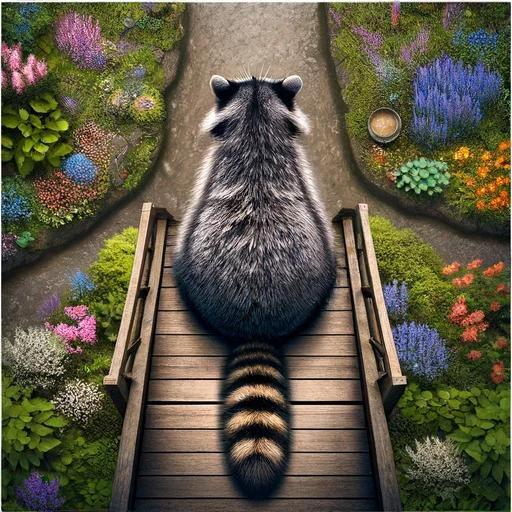raccoon: (162, 60, 348, 512)
